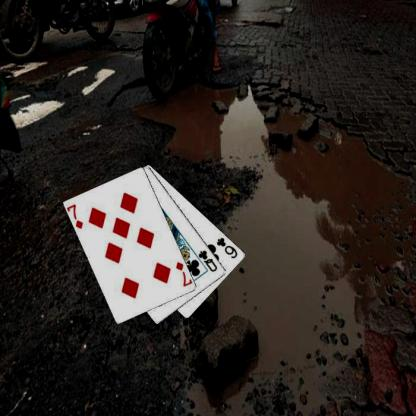6C: (214, 235, 239, 260)
7D: (174, 259, 192, 288), (66, 201, 84, 230)
QC: (196, 248, 219, 273)
